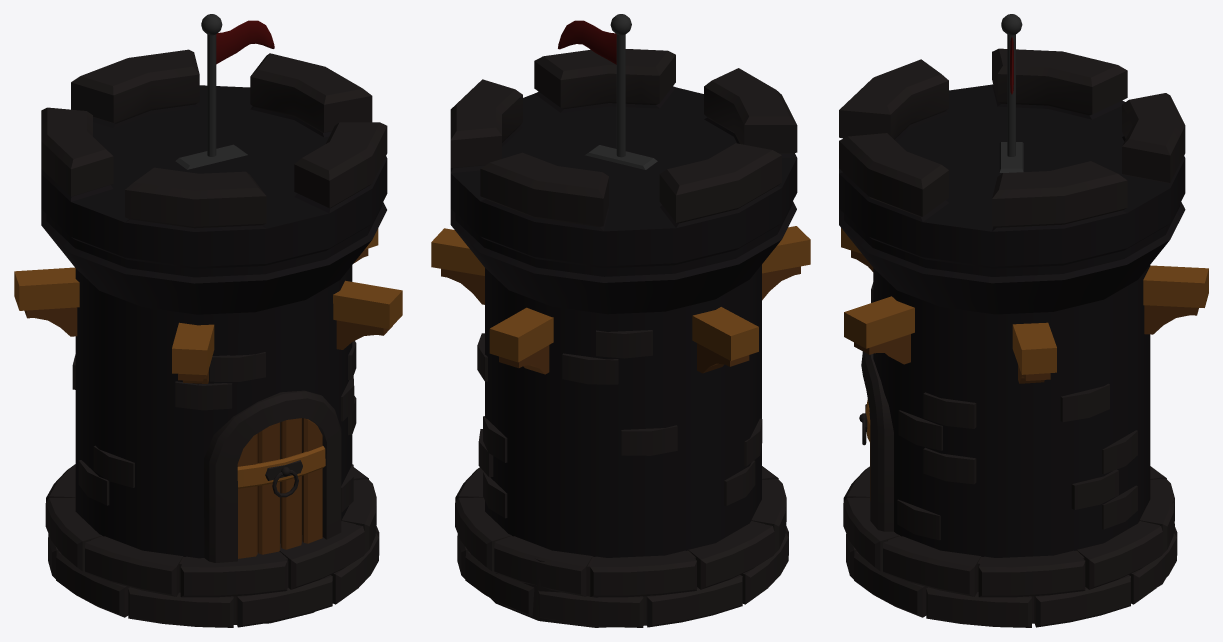
Rendered from Tower.obj.
3 renders of one model, left to right at view 1: azimuth 30°, elevation 25°; view 2: azimuth 150°, elevation 25°; view 3: azimuth 270°, elevation 25°, orthographic.
Visible parts, largest first — view 1: Tower_Cube.292, Tower_Door_Cylinder.003; view 2: Tower_Cube.292; view 3: Tower_Cube.292.
Boxes of the visible parts, x1,y1,x2,y2 form: Tower_Cube.292: [14, 14, 402, 627]; Tower_Door_Cylinder.003: [237, 418, 325, 558]; Tower_Cube.292: [431, 14, 810, 627]; Tower_Cube.292: [839, 14, 1208, 627].
Bounding box in the file's own units: 9.44 × 14.6 × 8.98.
